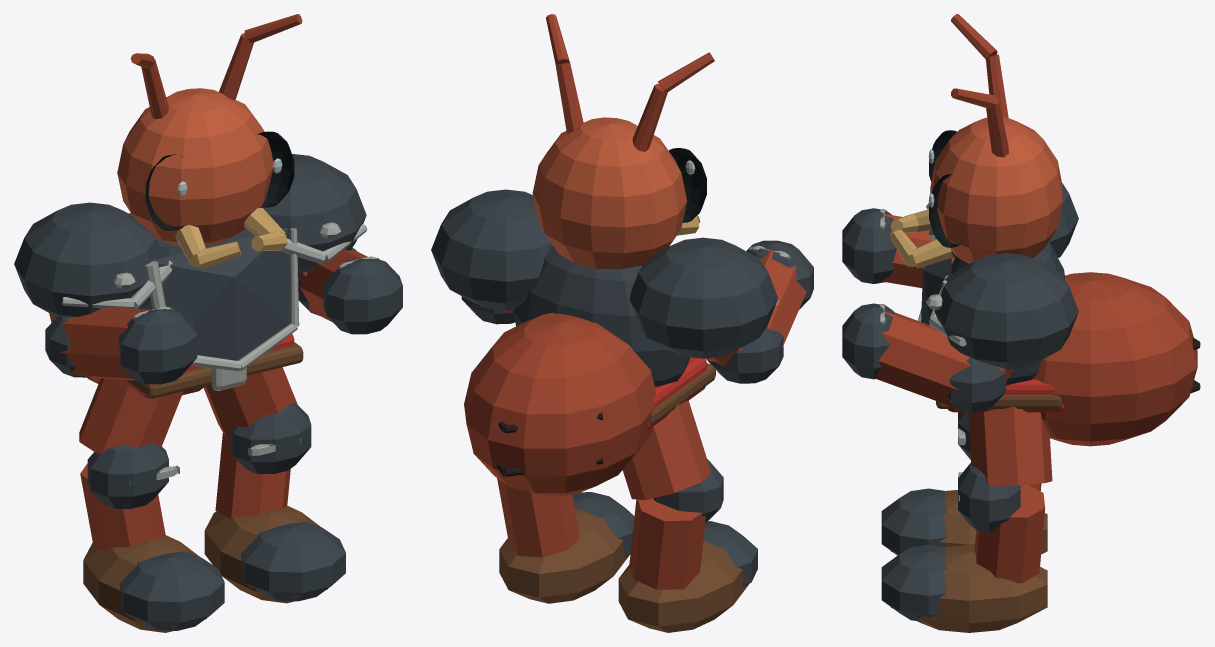
The model's file is worker-carry.glb.
3 renders of one model, left to right at view 1: azimuth 30°, elevation 25°; view 2: azimuth 150°, elevation 25°; view 3: azimuth 270°, elevation 25°, orthographic. The views are drawn at different scales.
Visible parts, largest first — view 1: worker-carry; view 2: worker-carry; view 3: worker-carry.
Boxes of the visible parts, box(x1,y1,x2,y2) form: worker-carry: box(14, 14, 402, 632); worker-carry: box(431, 14, 813, 632); worker-carry: box(842, 14, 1200, 632).
Bounding box in the file's own units: 1.26 × 2.09 × 1.24.
